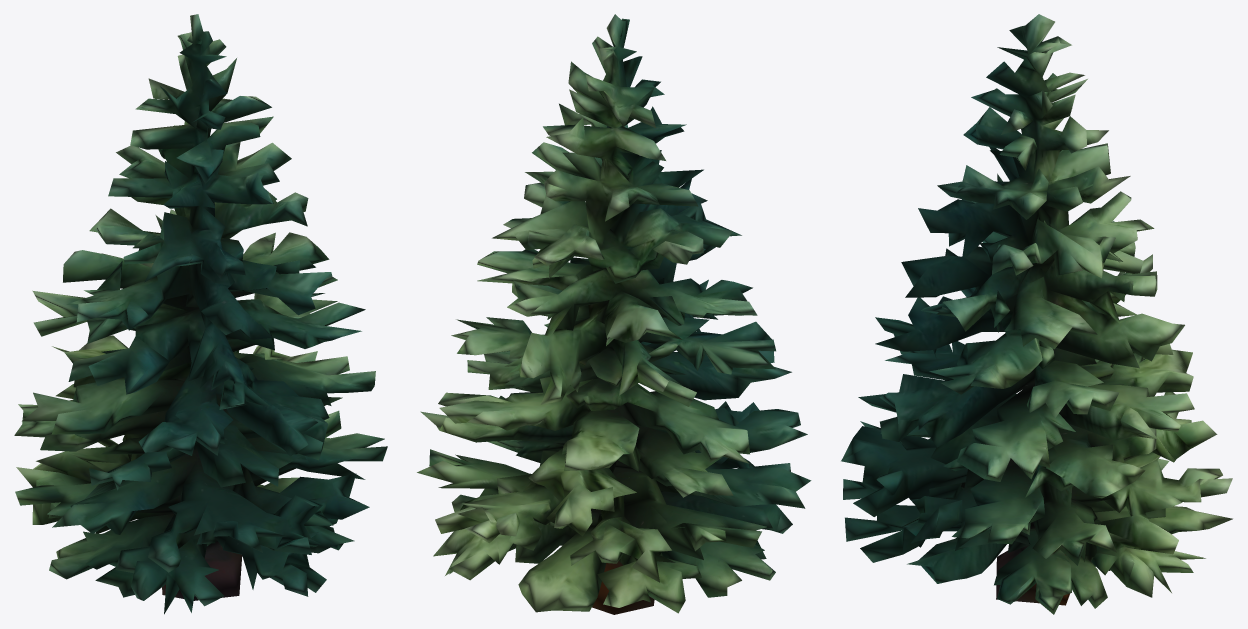
File: spruce_tripo.glb
3 renders of one model, left to right at view 1: azimuth 30°, elevation 25°; view 2: azimuth 150°, elevation 25°; view 3: azimuth 270°, elevation 25°, orthographic. The views are drawn at different scales.
Visible parts, largest first — view 1: tripo_node_936ab5f1-b331-40a0-8106-3f75f14aef7f; view 2: tripo_node_936ab5f1-b331-40a0-8106-3f75f14aef7f; view 3: tripo_node_936ab5f1-b331-40a0-8106-3f75f14aef7f.
Boxes of the visible parts, x1,y1,x2,y2 form: tripo_node_936ab5f1-b331-40a0-8106-3f75f14aef7f: (14,14,387,614); tripo_node_936ab5f1-b331-40a0-8106-3f75f14aef7f: (417,14,811,614); tripo_node_936ab5f1-b331-40a0-8106-3f75f14aef7f: (841,14,1232,614).
Size of the model in its own units: 0.6025 by 1 by 0.6191.
Materials: 1 (1 with a texture image).
